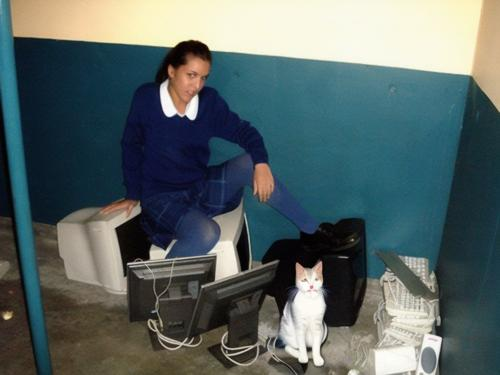cat: (278, 261, 328, 372)
person: (117, 39, 366, 281)
person/foot: (300, 223, 360, 254)
person/hand: (252, 164, 274, 203), (99, 200, 137, 216)
person/head: (167, 40, 212, 99)
tvmonitor: (259, 219, 369, 333), (195, 258, 278, 368), (127, 254, 217, 351), (150, 202, 253, 286), (58, 203, 145, 297)
